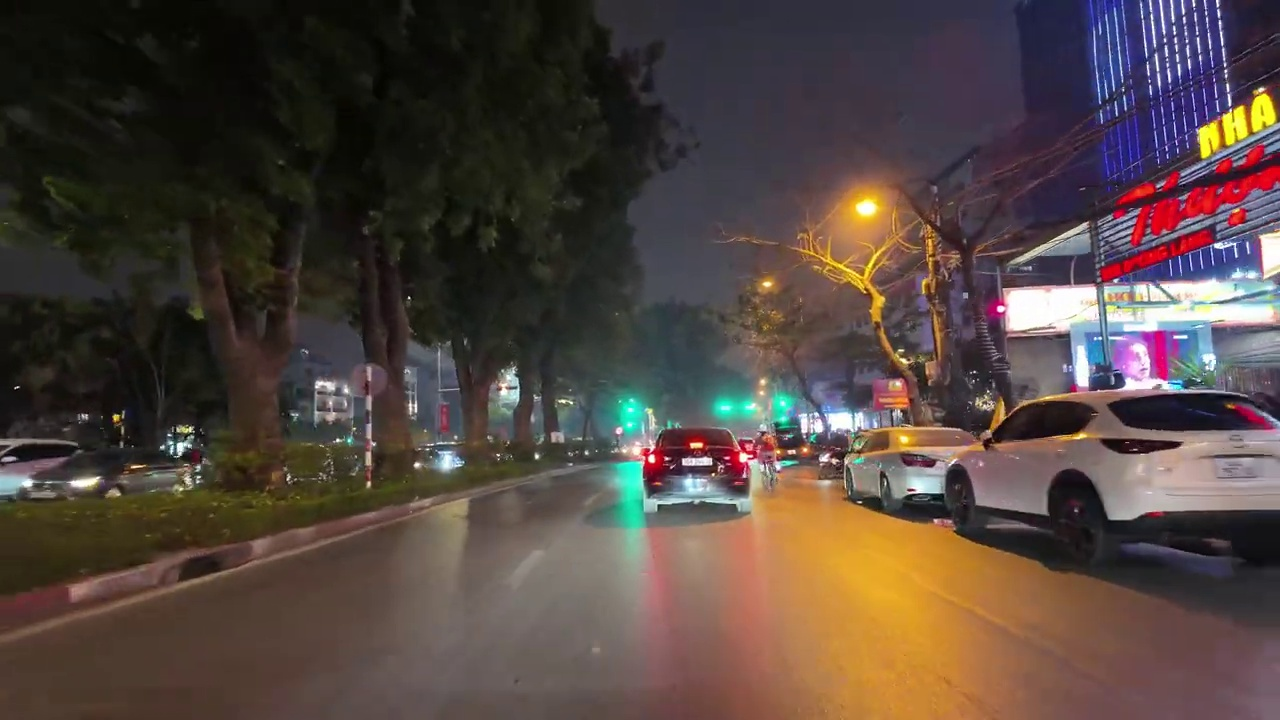acesa: (846, 190, 887, 228), (754, 273, 781, 297)
